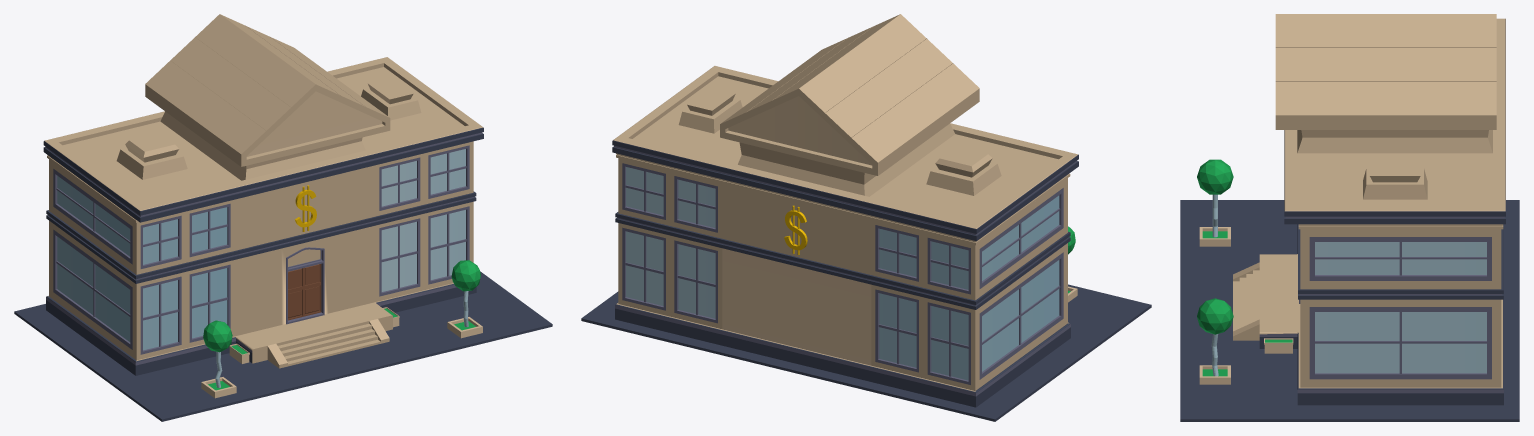
File: government-building-bank.fbx
3 views of the same model, side by side, from view 1: azimuth 30°, elevation 25°; view 2: azimuth 150°, elevation 25°; view 3: azimuth 270°, elevation 25° (orthographic). The views are drawn at different scales.
Visible parts, largest first — view 1: government-building-bank; view 2: government-building-bank; view 3: government-building-bank.
Boxes of the visible parts, x1=… form: government-building-bank: x1=14, y1=14, x2=552, y2=421; government-building-bank: x1=581, y1=14, x2=1151, y2=421; government-building-bank: x1=1180, y1=14, x2=1519, y2=421.
Size of the model in its own units: 1953 by 1240 by 1279.
1 material, 1 textured.
